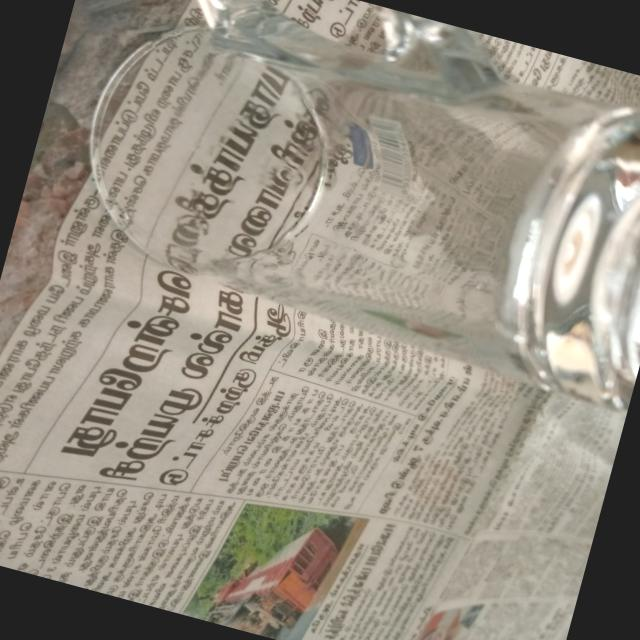glass-VX4N: (42, 0, 640, 418)
